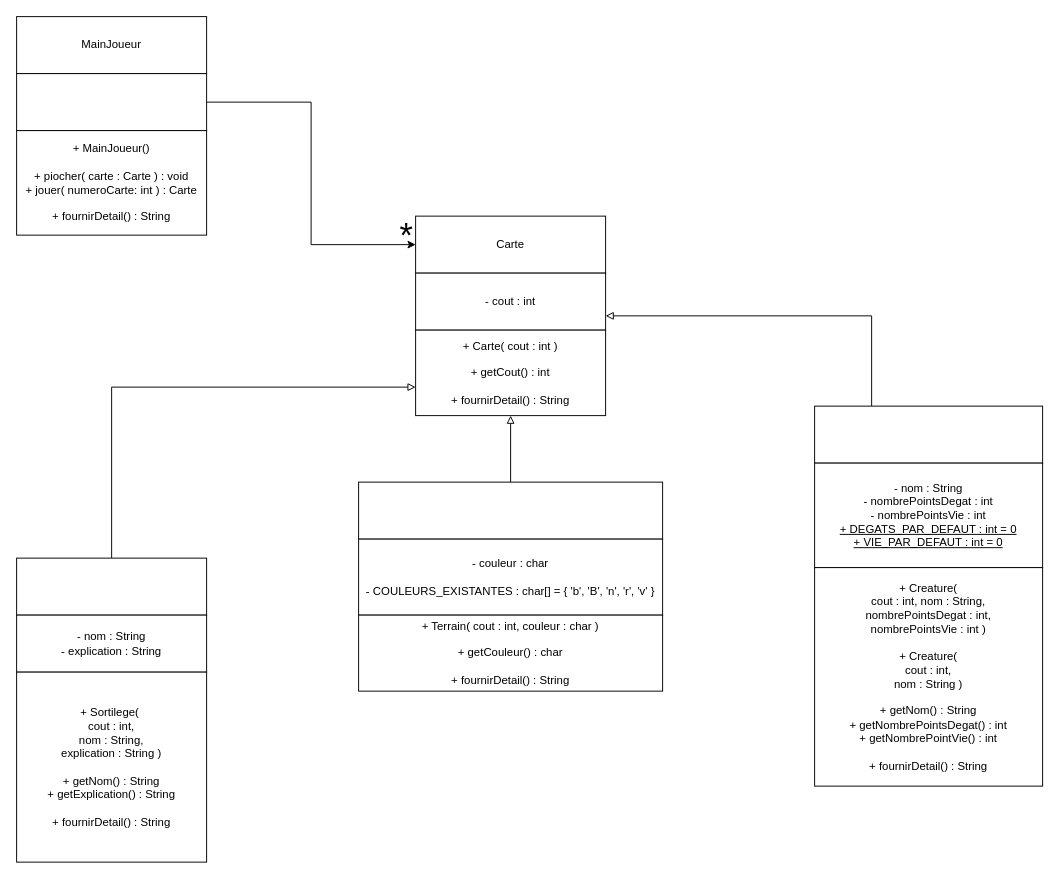
Image size: 1059x879. Some labels were removed from this diagram. The centre of each missing label's shape, as x and y in pixels:
"- cartes : ArrayList<Carte>" goes at point (111, 102).
"Creature" goes at point (928, 434).
"Sortilege" goes at point (111, 586).
"Terrain" goes at point (510, 510).
